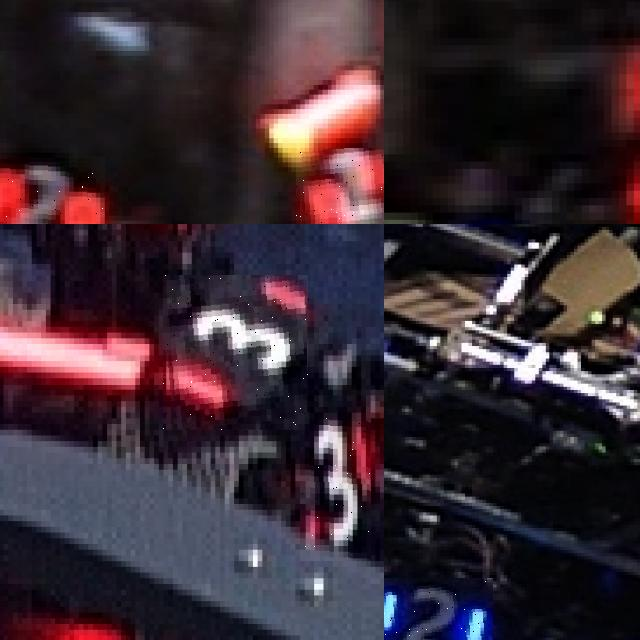B2: (384, 578, 493, 640)
R2: (0, 157, 104, 224), (296, 148, 384, 224)
R3: (163, 275, 310, 430), (300, 413, 371, 561)
